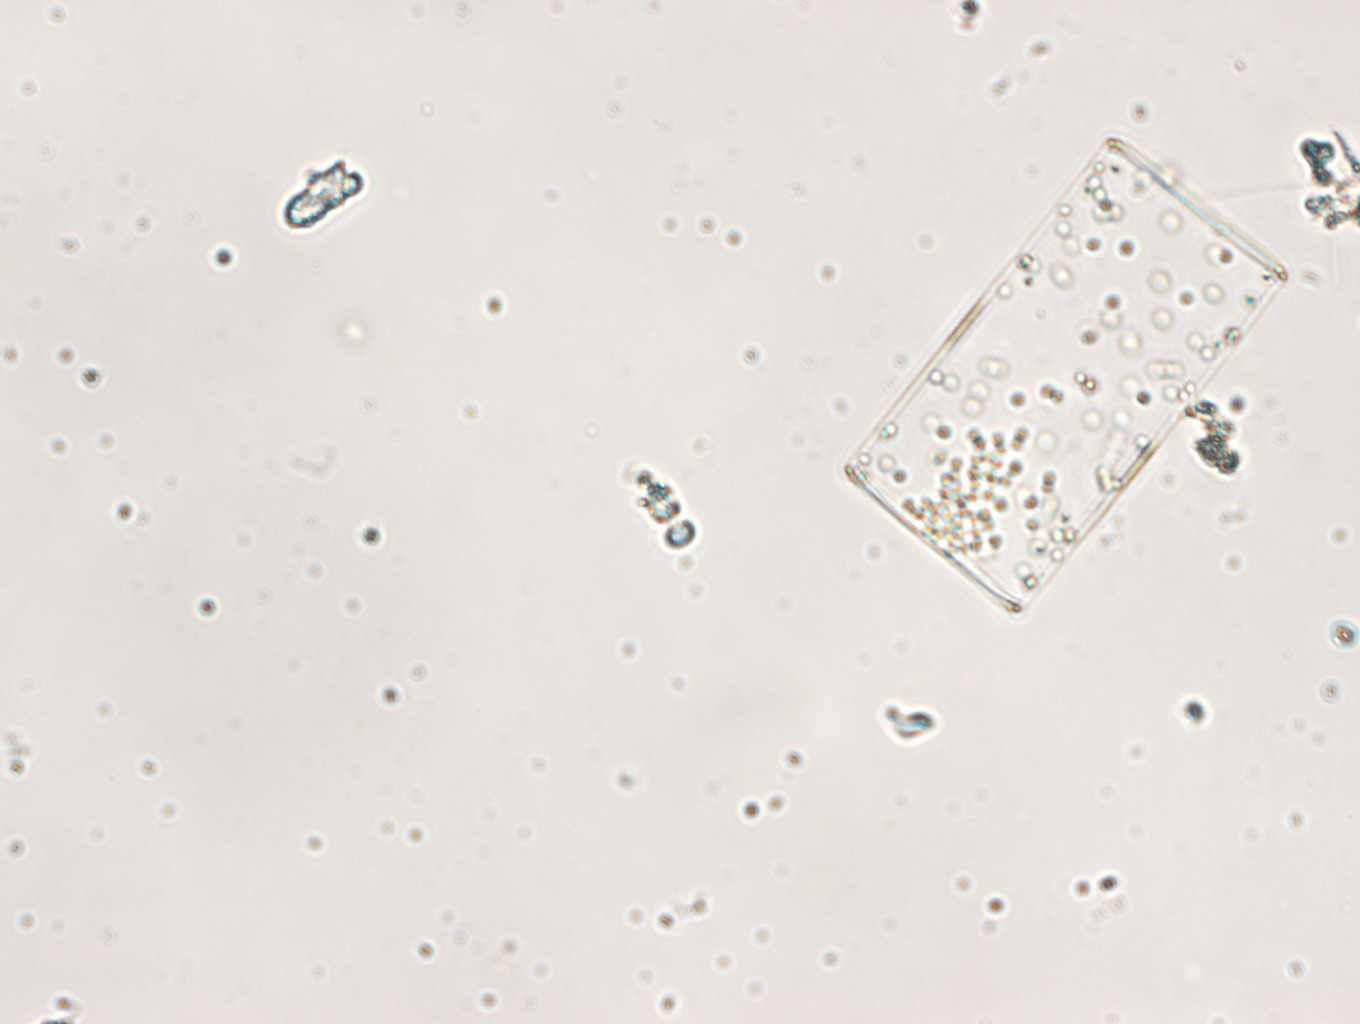guinardia flaccida: (836, 132, 1298, 620)
